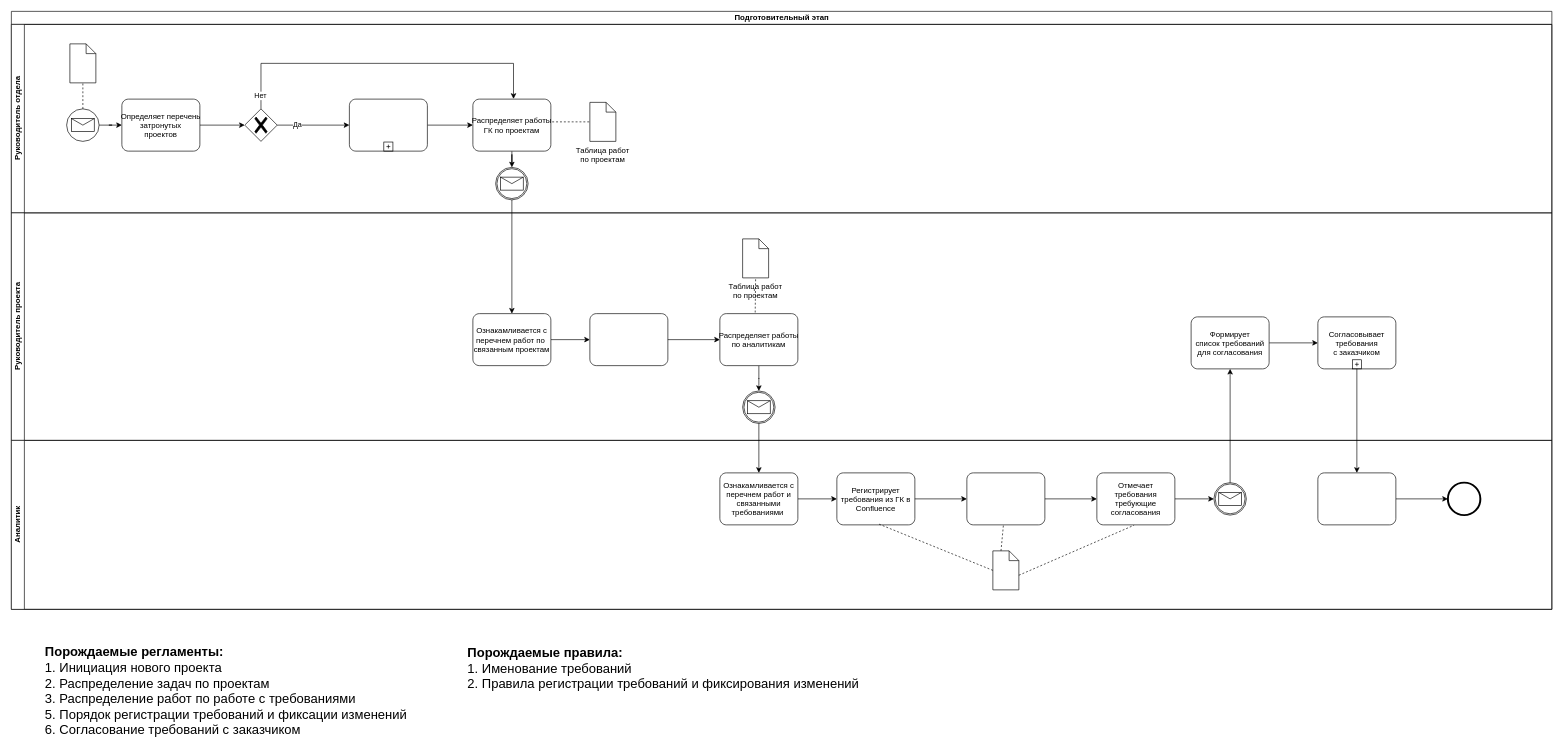
Some shapes in this 1563 by 751 pixel diagram are drawn without their labels. The shapes that lost their labels are listed below. From the top down, each one's centre as x and y in pixels, then its label:
At pixel 82 63: "Госконтракт".
At pixel 260 124: "Необходимо создать новые проекты?".
At pixel 388 124: "Инициирует создание нового проекта".
At pixel 628 339: "Определяет приоритет для работ".
At pixel 1005 498: "Формирует требования второго уровня и бизнес-правила".
At pixel 1356 498: "Фиксирует изменения в требованиях".
At pixel 1005 570: "Таблица требований".
